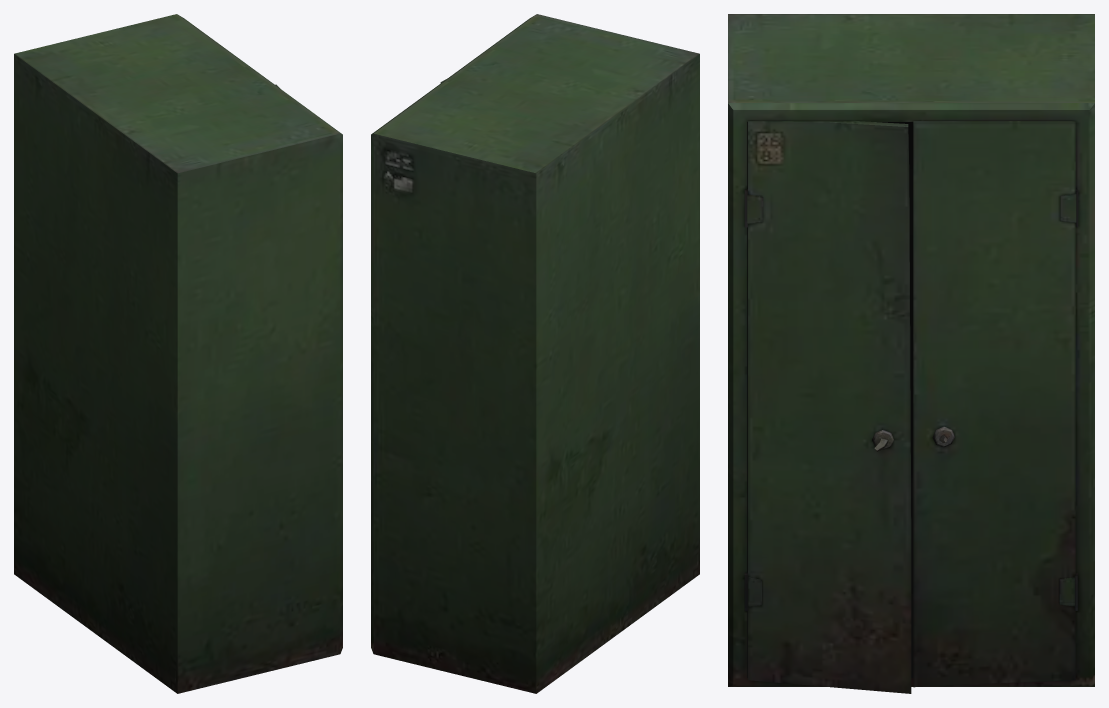
File: controlroom_storagecloset001a.glb
3 views of the same model, side by side, from view 1: azimuth 30°, elevation 25°; view 2: azimuth 150°, elevation 25°; view 3: azimuth 270°, elevation 25° (orthographic). The views are drawn at different scales.
Visible parts, largest first — view 1: 0_controlroom_cabinets001; view 2: 0_controlroom_cabinets001; view 3: 0_controlroom_cabinets001.
Boxes of the visible parts, x1=… form: 0_controlroom_cabinets001: x1=14, y1=14, x2=342, y2=693; 0_controlroom_cabinets001: x1=371, y1=14, x2=699, y2=693; 0_controlroom_cabinets001: x1=728, y1=14, x2=1094, y2=693.
Bounding box in the file's own units: 0.87 × 2.21 × 1.26.
Materials: 1 (1 with a texture image).
